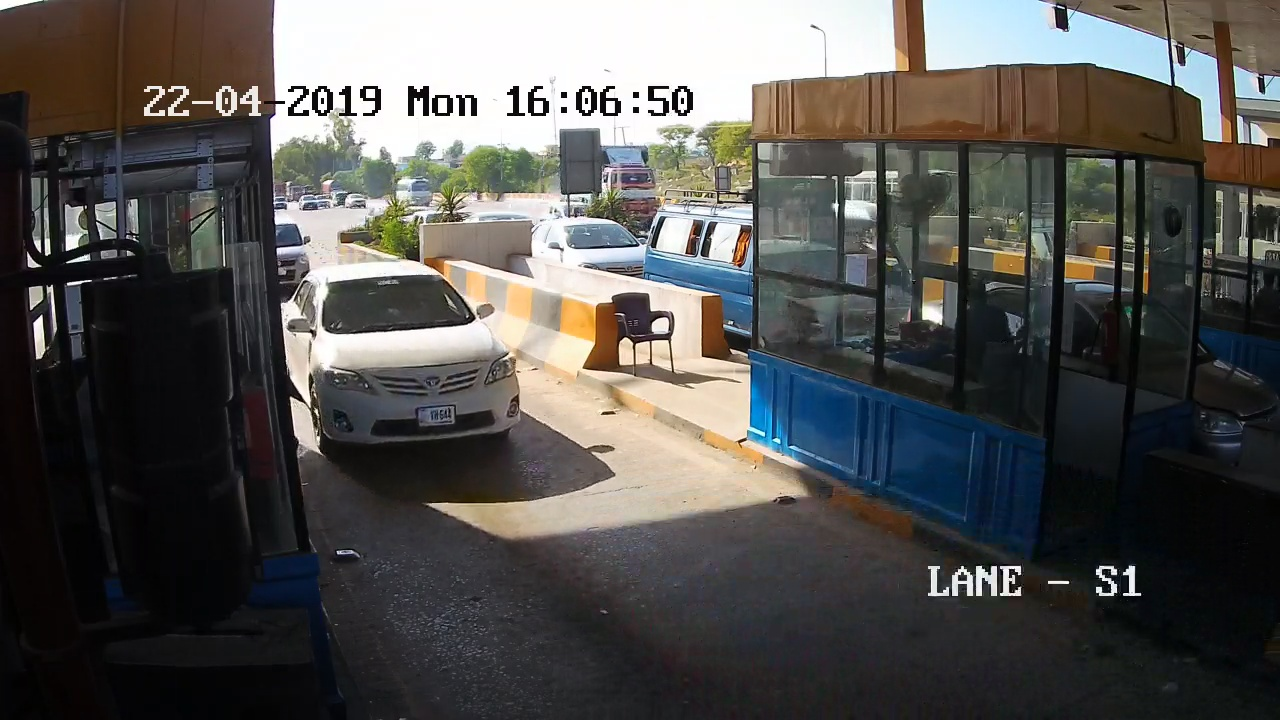Number Plate (Car): (415, 406, 454, 425)
